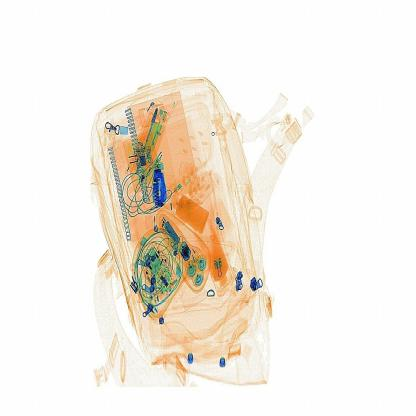scissors: (145, 166, 178, 219)
